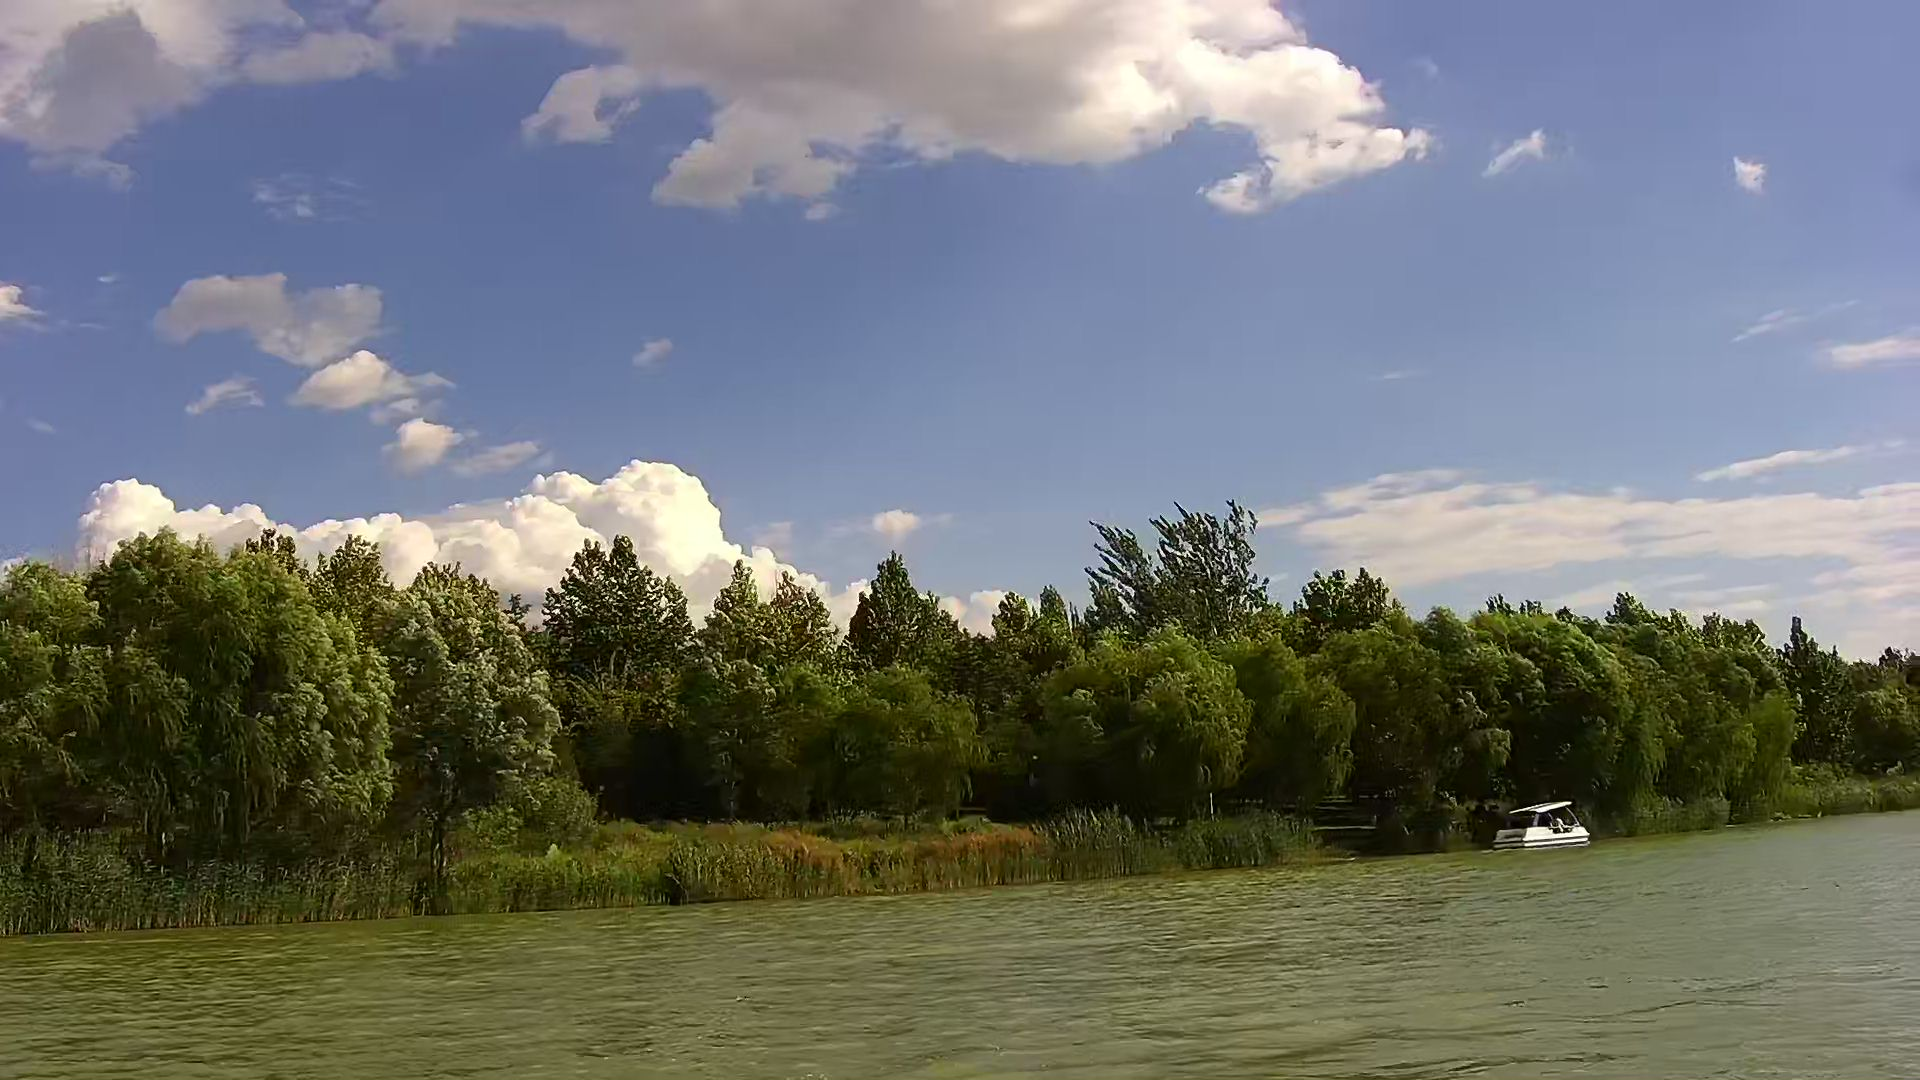boat: (1495, 798, 1592, 849)
